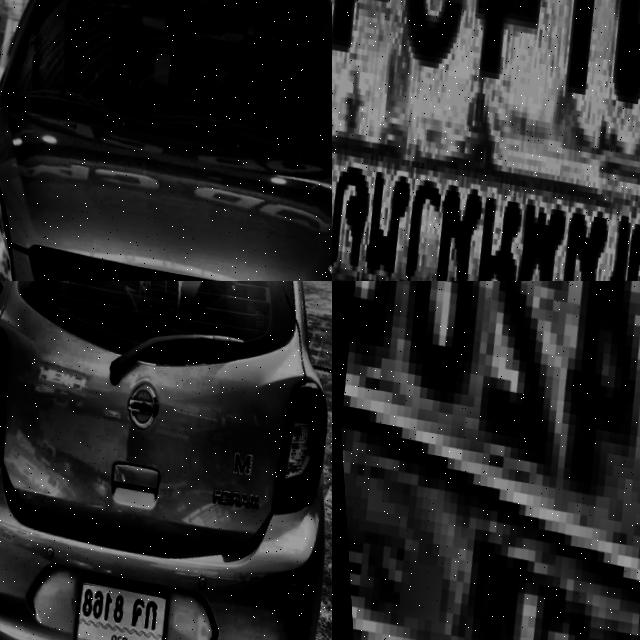license-plate: (332, 281, 640, 640), (332, 0, 640, 281), (56, 567, 170, 640)
